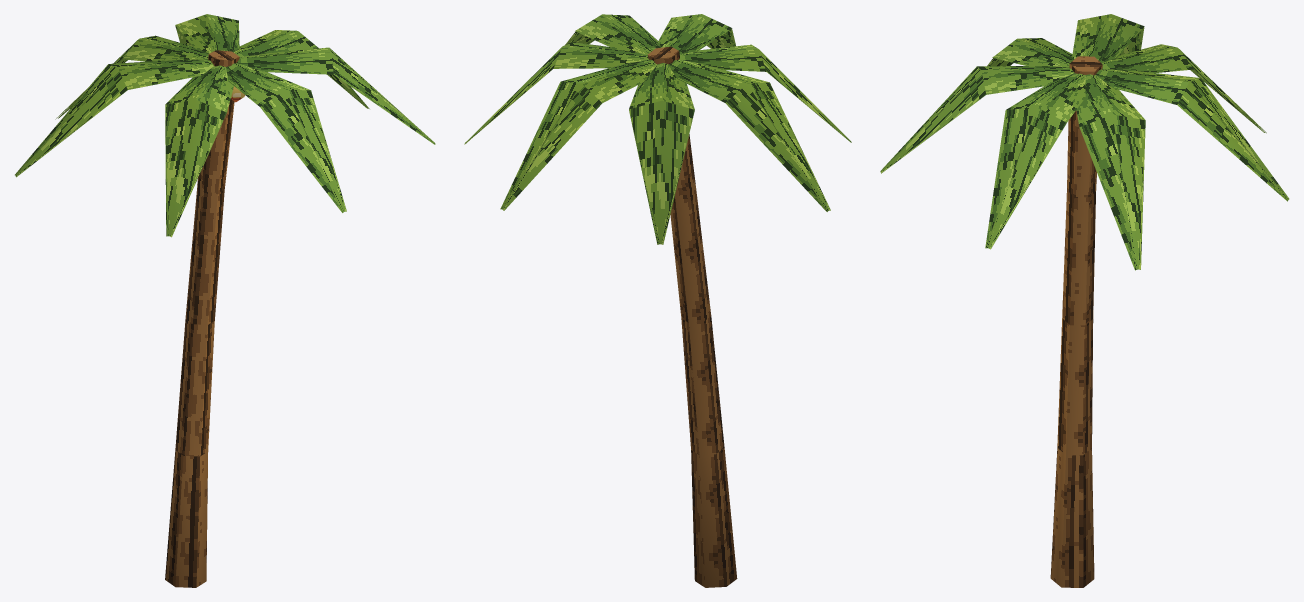
Rendered from wild.palm.glb.
3 views of the same model, side by side, from view 1: azimuth 30°, elevation 25°; view 2: azimuth 150°, elevation 25°; view 3: azimuth 270°, elevation 25° (orthographic). The views are drawn at different scales.
Visible parts, largest first — view 1: kit_shell_crown, kit_trunk; view 2: kit_shell_crown, kit_trunk; view 3: kit_shell_crown, kit_trunk.
Part boxes in pixels (x1,y1,x2,y2): kit_shell_crown: (15, 14, 435, 237); kit_trunk: (165, 50, 239, 587); kit_shell_crown: (464, 14, 851, 244); kit_trunk: (647, 46, 737, 587); kit_shell_crown: (880, 14, 1289, 270); kit_trunk: (1050, 56, 1102, 587).
Bounding box in the file's own units: 4.76 × 6.54 × 4.48.
Materials: 3 (3 with a texture image).
